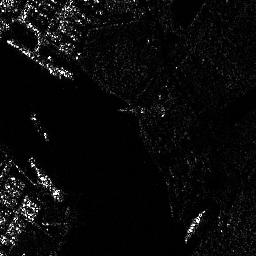ship: (29, 157, 63, 202), (184, 209, 206, 243), (28, 113, 49, 141)
